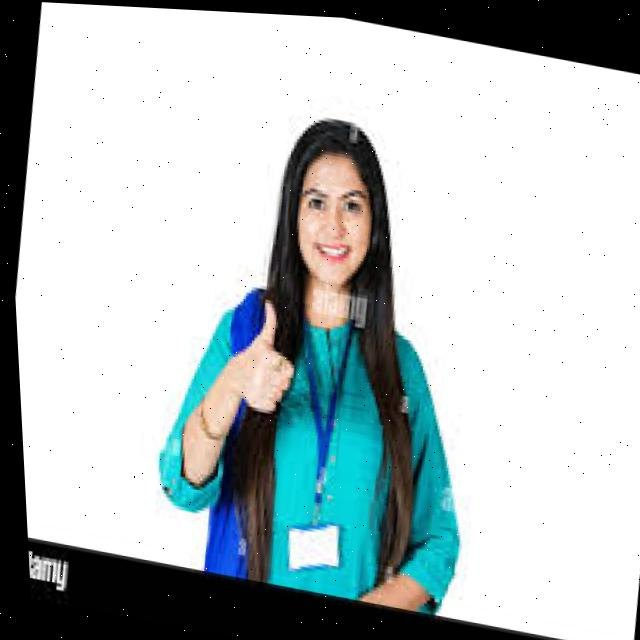id_card: (261, 296, 377, 576)
